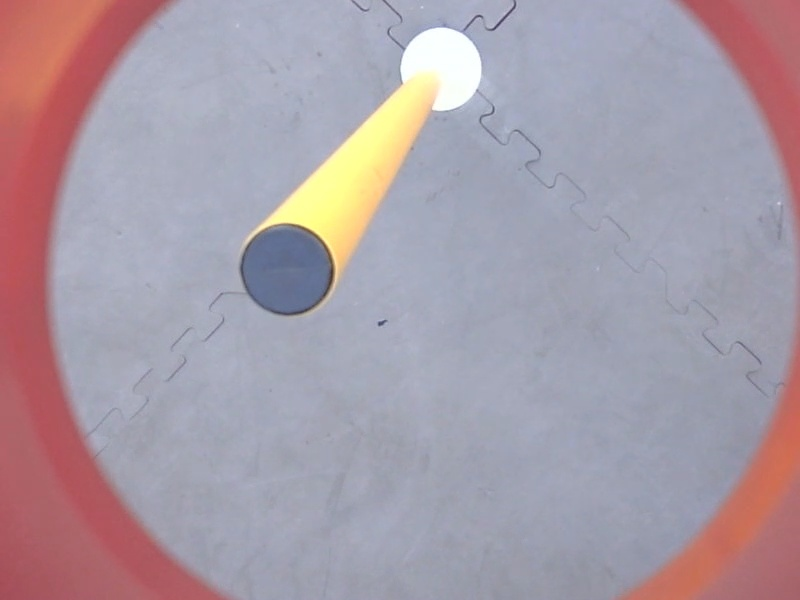tip: (231, 216, 341, 323)
